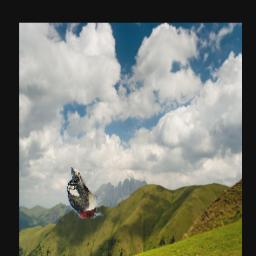Woodpecker: (67, 167, 104, 218)
